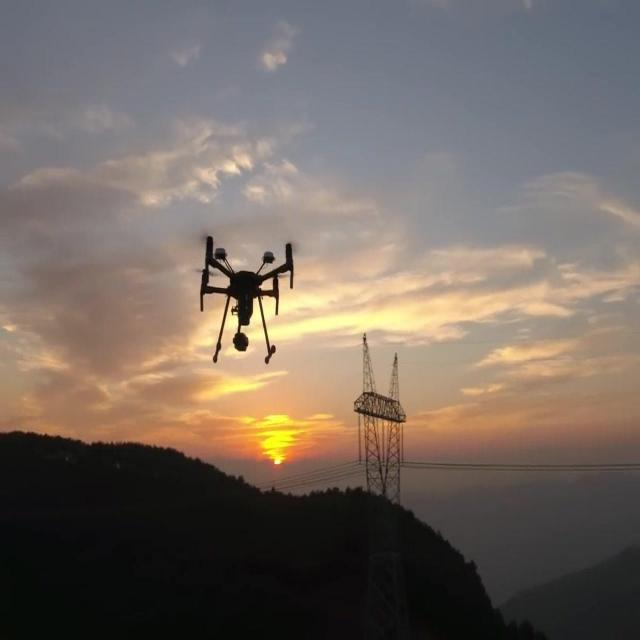UAV: (196, 232, 298, 365)
